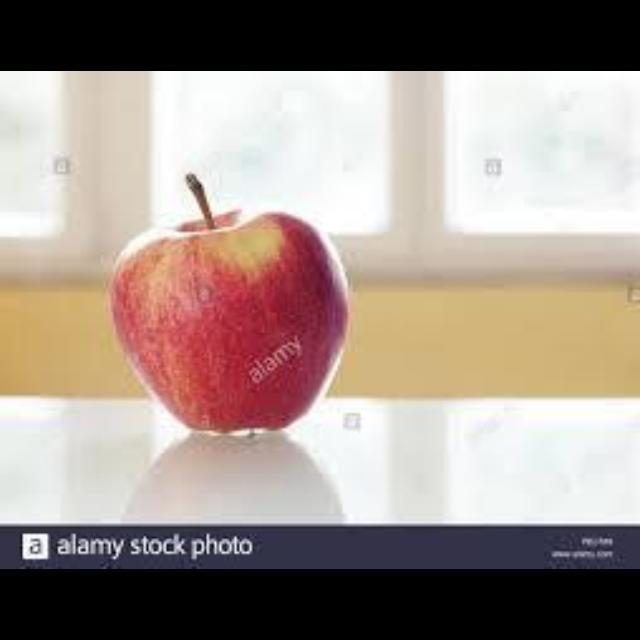apple: (108, 172, 345, 431)
